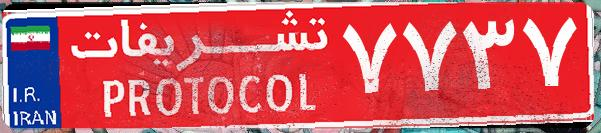3: (460, 20, 520, 115)
7: (340, 20, 400, 115), (400, 20, 460, 115), (520, 20, 580, 115)
تشریفات: (60, 8, 340, 125)
